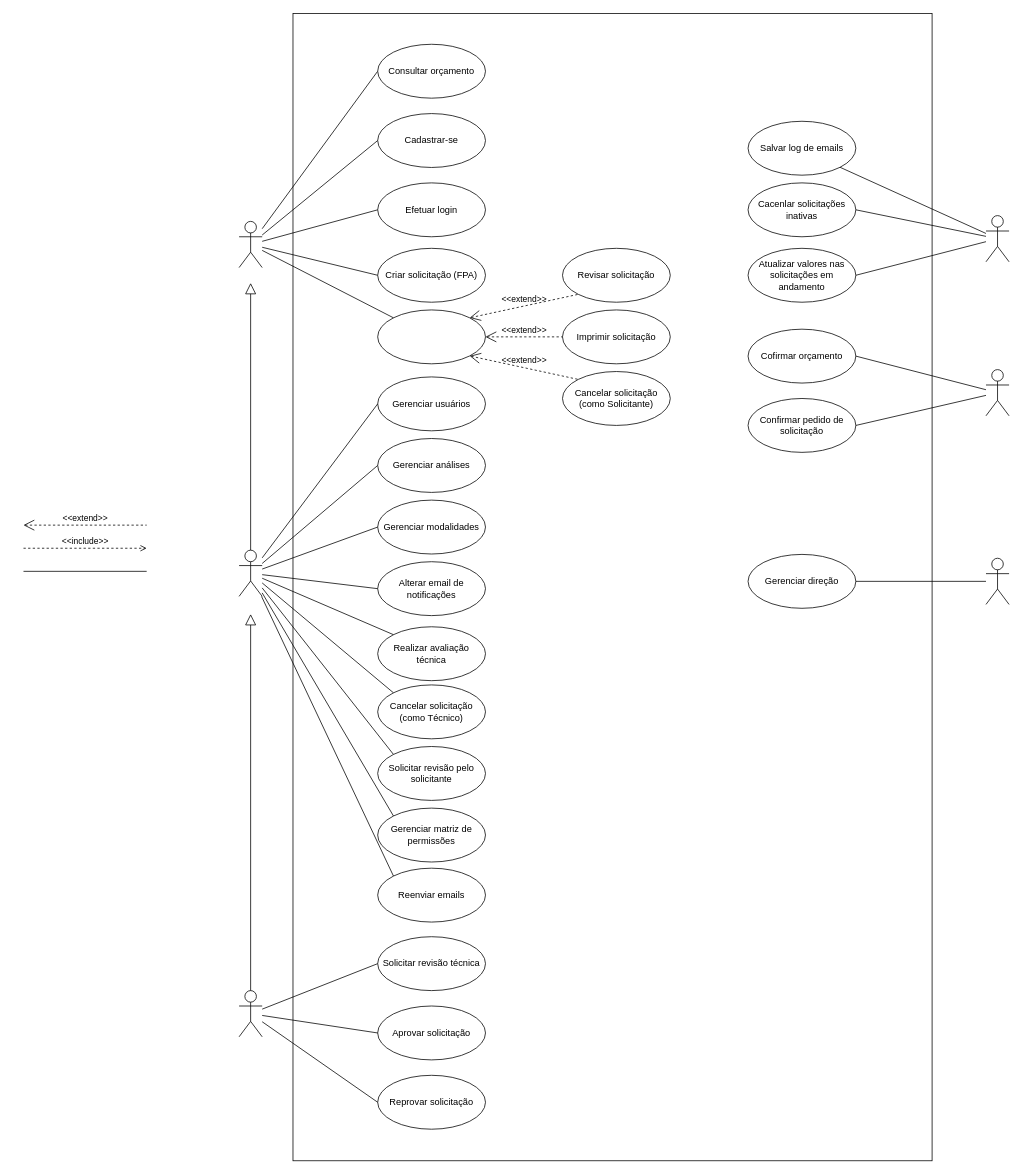
This 1033x1174 diagram has some shape labels left out. The shapes that lost their labels are listed below. From the top down, each one's centre as x and y in pixels, then its label:
At point 250,244: "Solicitante".
At point 997,238: "Sistema".
At point 431,336: "Consultar solicitações".
At point 997,392: "Orientador".
At point 250,572: "Técnico".
At point 997,580: "DBA".
At point 250,1013: "Direção".
